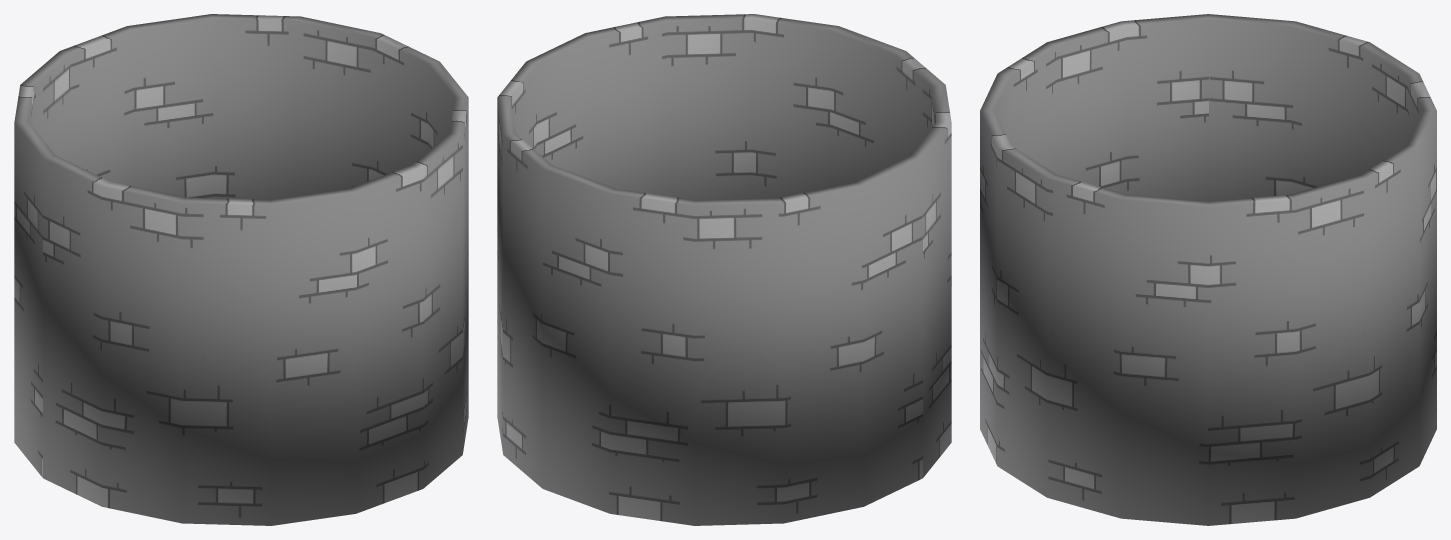
The model's file is rookBody.gltf.
3 renders of one model, left to right at view 1: azimuth 30°, elevation 25°; view 2: azimuth 150°, elevation 25°; view 3: azimuth 270°, elevation 25°, orthographic.
Parts seen in each view (by area): view 1: rookBody; view 2: rookBody; view 3: rookBody.
Part boxes in pixels (x1=…): rookBody: x1=14, y1=14, x2=468, y2=525; rookBody: x1=497, y1=14, x2=951, y2=525; rookBody: x1=980, y1=14, x2=1436, y2=525.
Size of the model in its own units: 7.74 by 5.96 by 7.74.
Materials: 1 (1 with a texture image).
